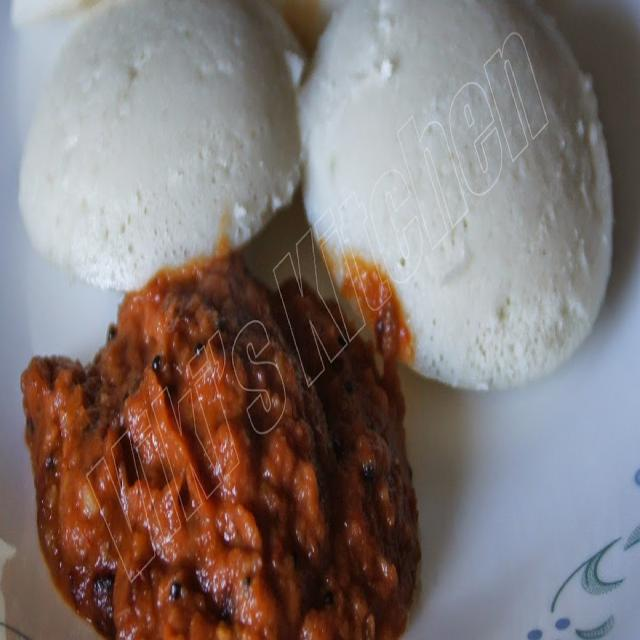idly: (299, 0, 612, 388), (20, 0, 304, 289)
kaara chutney: (5, 271, 423, 638)
